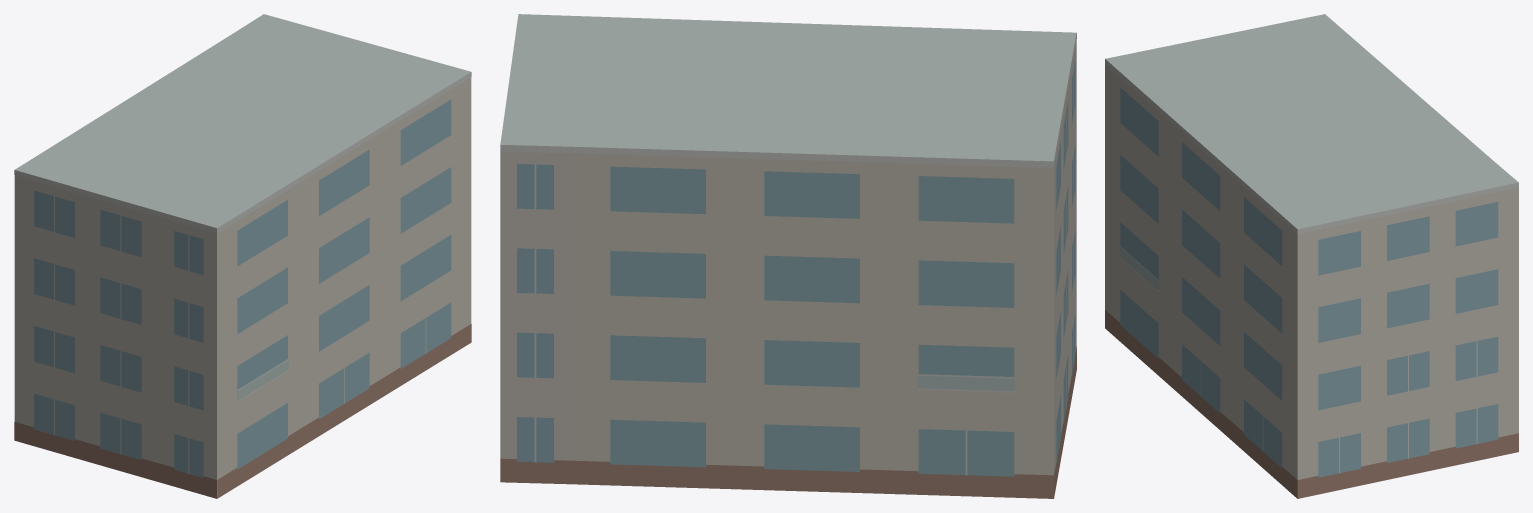
File: survey-upis-32837968.glb
3 renders of one model, left to right at view 1: azimuth 30°, elevation 25°; view 2: azimuth 150°, elevation 25°; view 3: azimuth 270°, elevation 25°, orthographic. The views are drawn at different scales.
Parts seen in each view (by area): view 1: survey-upis-32837968.tmp; view 2: survey-upis-32837968.tmp; view 3: survey-upis-32837968.tmp.
Boxes of the visible parts, left/top/right/bottom form: survey-upis-32837968.tmp: left=14, top=14, right=471, bottom=498; survey-upis-32837968.tmp: left=500, top=14, right=1076, bottom=498; survey-upis-32837968.tmp: left=1105, top=14, right=1518, bottom=498.
Size of the model in its own units: 21.6 by 12.6 by 17.54.
